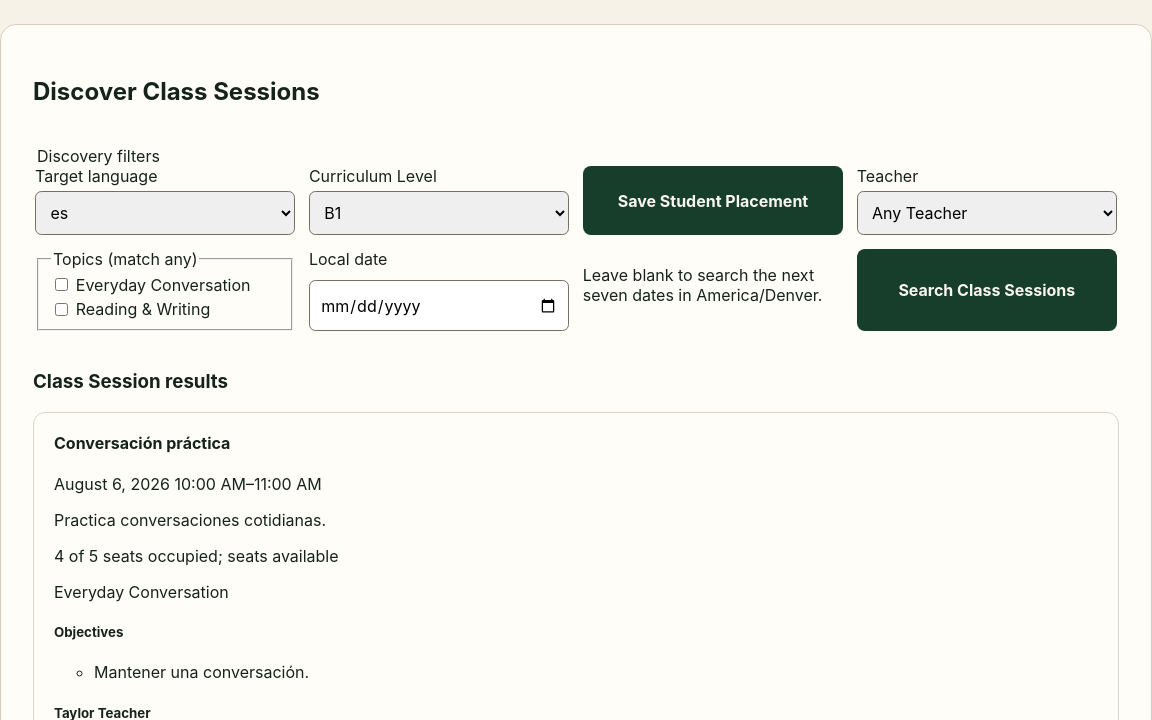
Scenario: Student Class Session Discovery › lets the Student save a new placement and applies it to discovery
Expected: the heading "Conversación práctica" is shown, [54,433,230,453]
Select "C1" in the dropdown labelled "Curriculum Level": point(439, 213) [309,191,569,235]
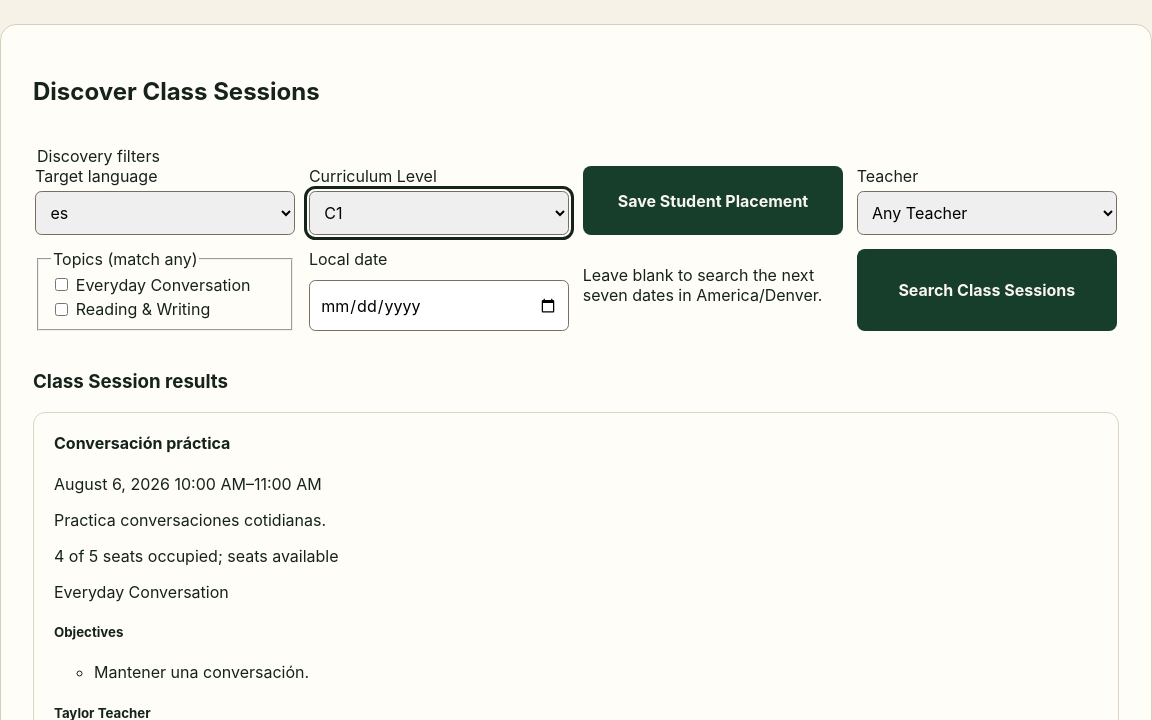
Click the button "Save Student Placement": point(713, 201) [583,166,843,235]
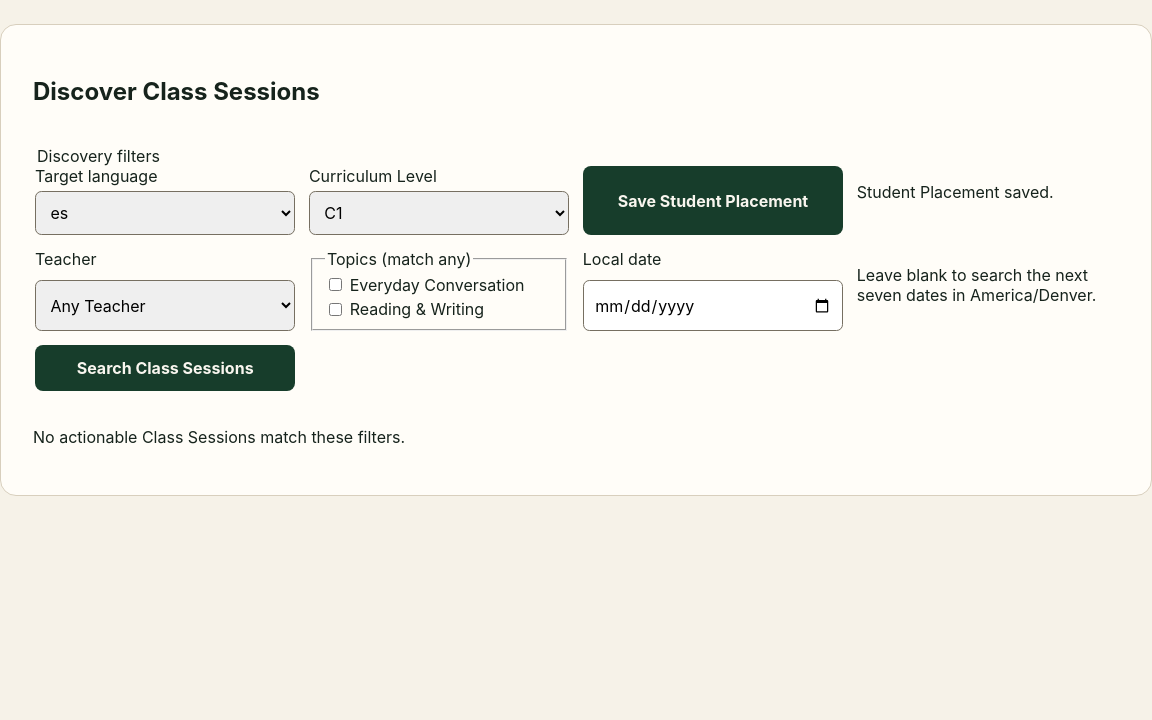
Expected: the text "No actionable Class Sessions match these filters." is shown, [33,427,405,447]
